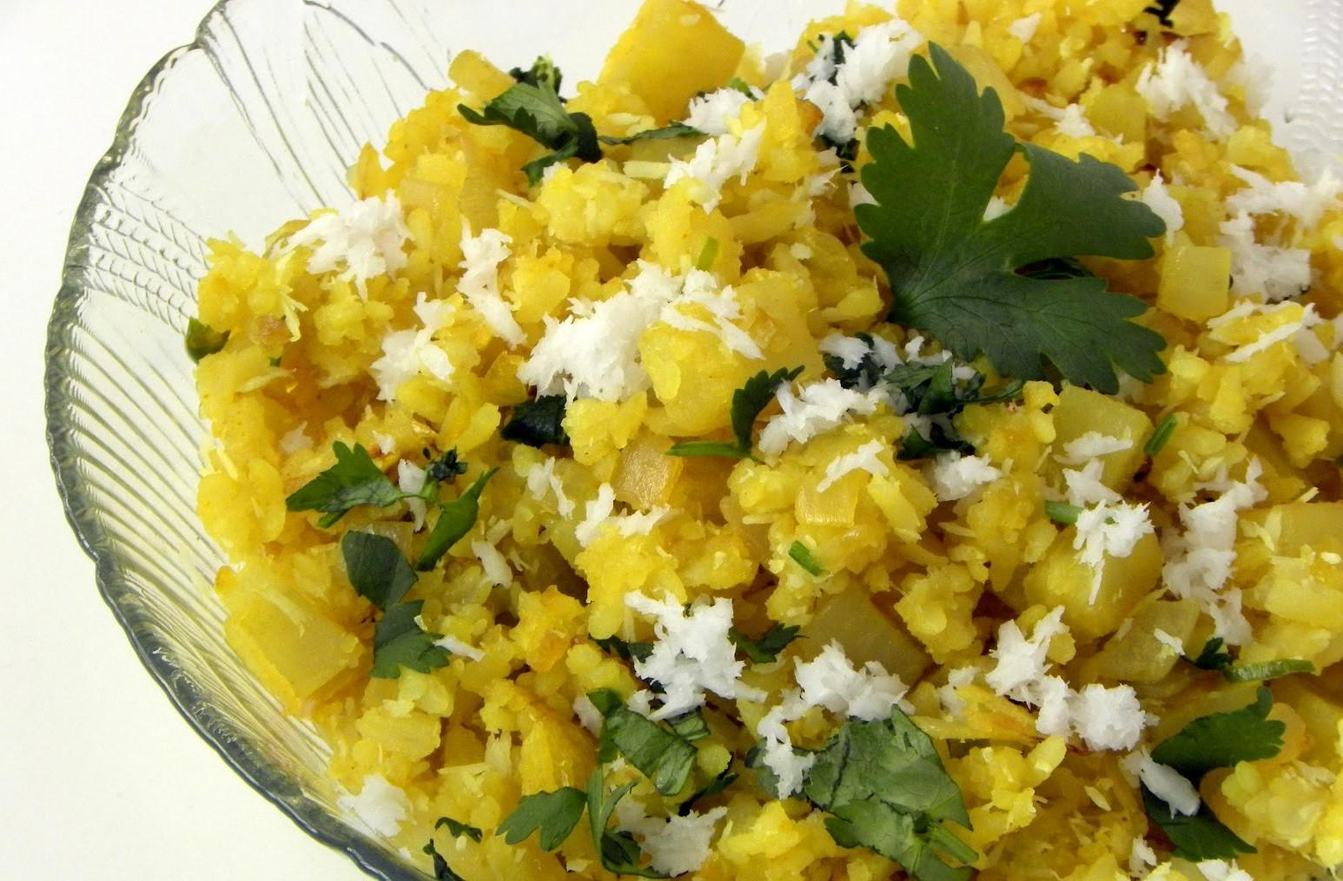Poha: (188, 0, 1343, 881)
